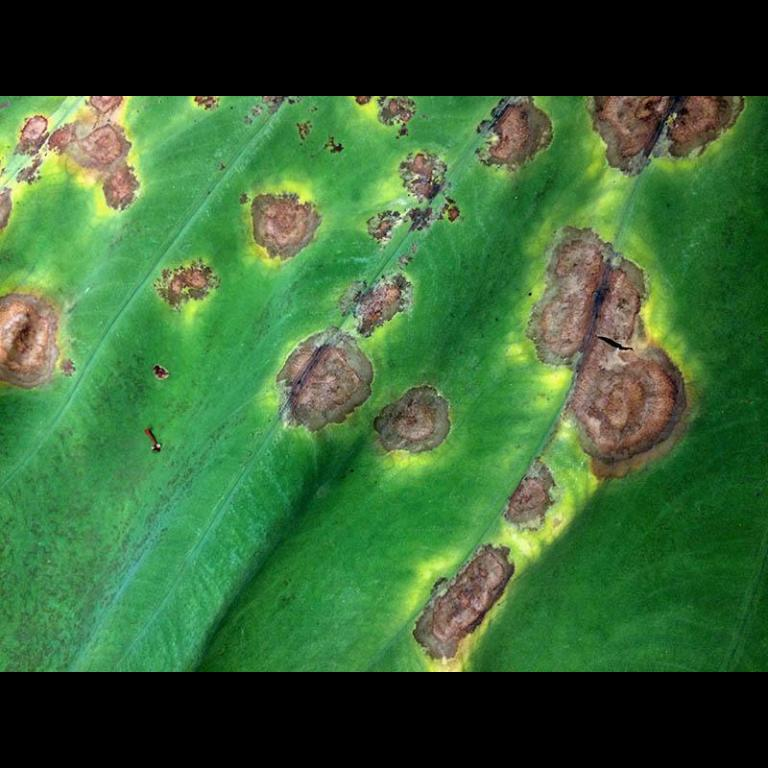blight: (510, 215, 690, 511), (266, 279, 458, 475)
